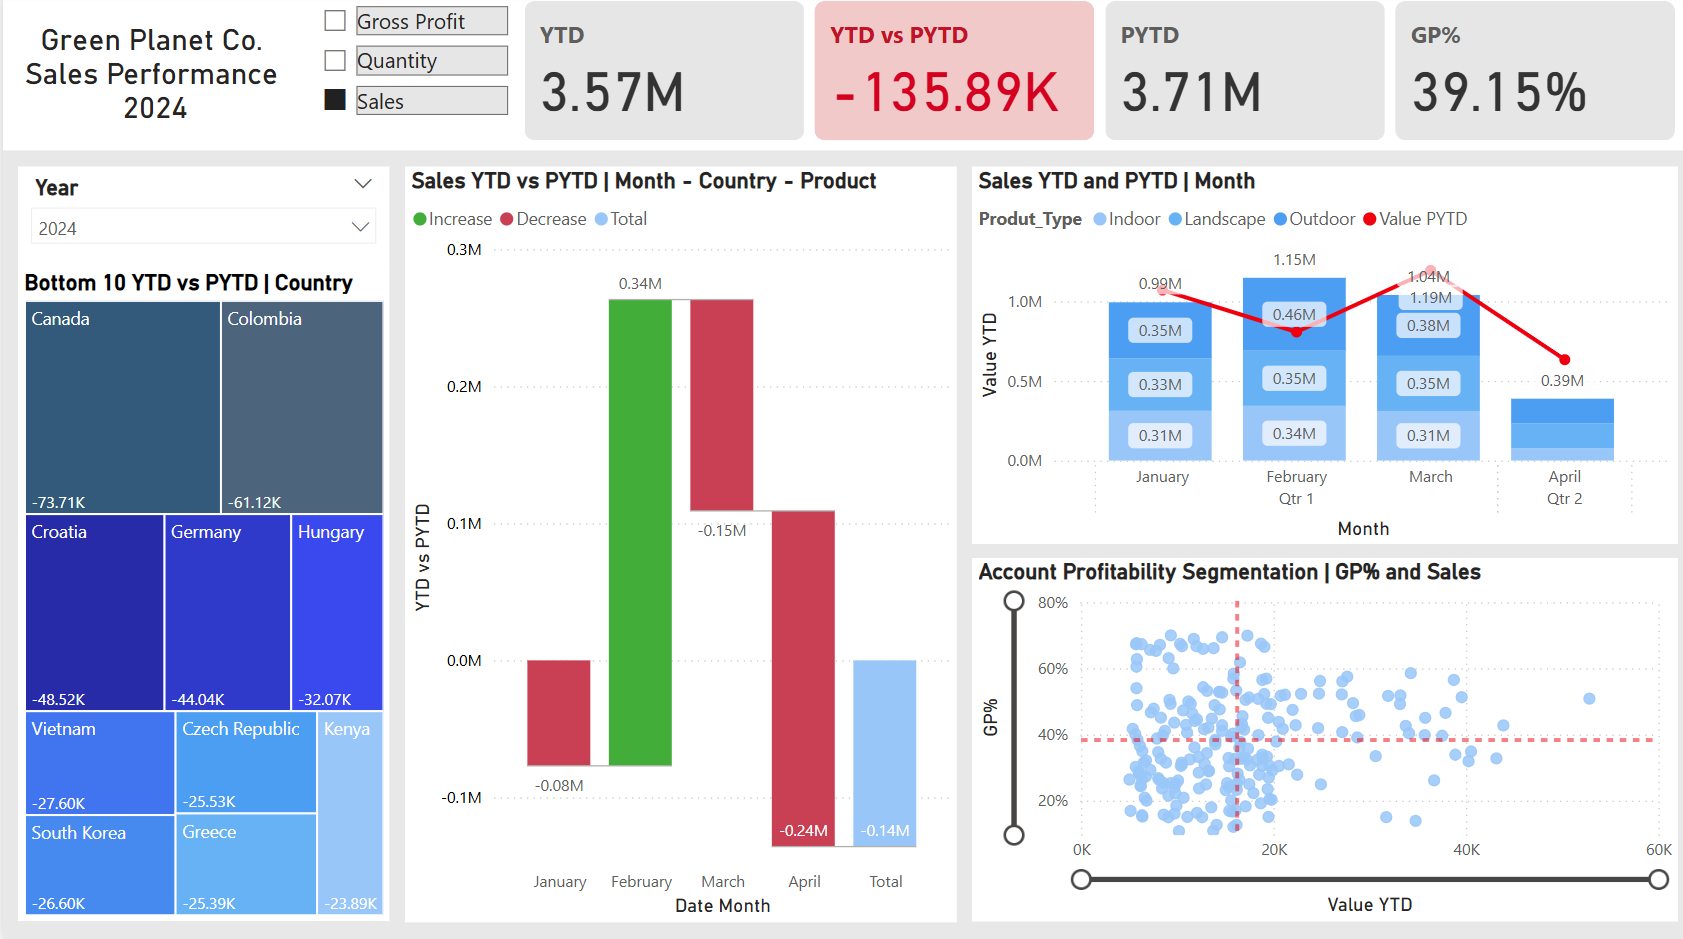

Layout of this report page (visuals, bound fields, positions):
{"tool":"powerbi","page":{"name":"Page 1","canvas":[1280,720],"ordinal":0},"visuals":[{"type":"cardVisual","fields":{"Data":["_Measures.S_YTD","_Measures.YTD vs PYTD","_Measures.S_PYTD","_Measures.GP%"]},"box":[391.7,0,888.3,116.7],"z":0},{"type":"slicer","fields":{"Values":["Slc_Values.Values"]},"box":[231.2,0,157.8,117.2],"z":1000},{"type":"slicer","fields":{"Values":["Dim_Date.Date.Variation.Date Hierarchy.Year"]},"box":[10.9,131.2,282.8,78.1],"z":2000},{"type":"treemap","title":"Bottom 10 YTD vs PYTD | Country","fields":{"Values":["_Measures.YTD vs PYTD"],"Group":["Dim_Account.country"]},"box":[10.9,209.4,282.8,496.9],"z":3000},{"type":"waterfallChart","fields":{"Category":["Dim_Date.Date.Variation.Date Hierarchy.Month","Dim_Account.country","Dim_Product.Produt_Type","Dim_Product.Product_Name"],"Y":["_Measures.YTD vs PYTD"]},"box":[306.2,131.2,420.3,575],"z":4000},{"type":"lineStackedColumnComboChart","fields":{"Y":["_Measures.S_YTD"],"Y2":["_Measures.S_PYTD"],"Category":["Dim_Date.Date.Variation.Date Hierarchy.Quarter","Dim_Date.Date.Variation.Date Hierarchy.Month"],"Series":["Dim_Product.Produt_Type"]},"box":[737.5,131.2,537.5,287.5],"z":5000},{"type":"scatterChart","fields":{"Y":["_Measures.GP%"],"X":["_Measures.S_YTD"],"Category":["Dim_Account.Account"]},"box":[737.5,429.7,537.5,276.6],"z":6000},{"type":"card","fields":{"Values":["_Measures._Report title"]},"box":[0,0,231.2,117.2],"z":7000}]}

Visuals, with their boxes in screenshot pixels (x1, y1, x2, y2), scaled from the page's 1280x720 canvas onto the 1683x939 screenshot:
cardVisual - _Measures.S_YTD x _Measures.YTD vs PYTD: box(515, 0, 1682, 152)
slicer - Slc_Values.Values: box(304, 0, 511, 153)
slicer - Dim_Date.Date.Variation.Date Hierarchy.Year: box(14, 171, 386, 273)
"Bottom 10 YTD vs PYTD | Country" treemap: box(14, 273, 386, 921)
waterfallChart - Dim_Date.Date.Variation.Date Hierarchy.Month x Dim_Account.country: box(403, 171, 955, 921)
lineStackedColumnComboChart - _Measures.S_YTD x _Measures.S_PYTD: box(970, 171, 1676, 546)
scatterChart - _Measures.GP% x _Measures.S_YTD: box(970, 560, 1676, 921)
card - _Measures._Report title: box(0, 0, 304, 153)
